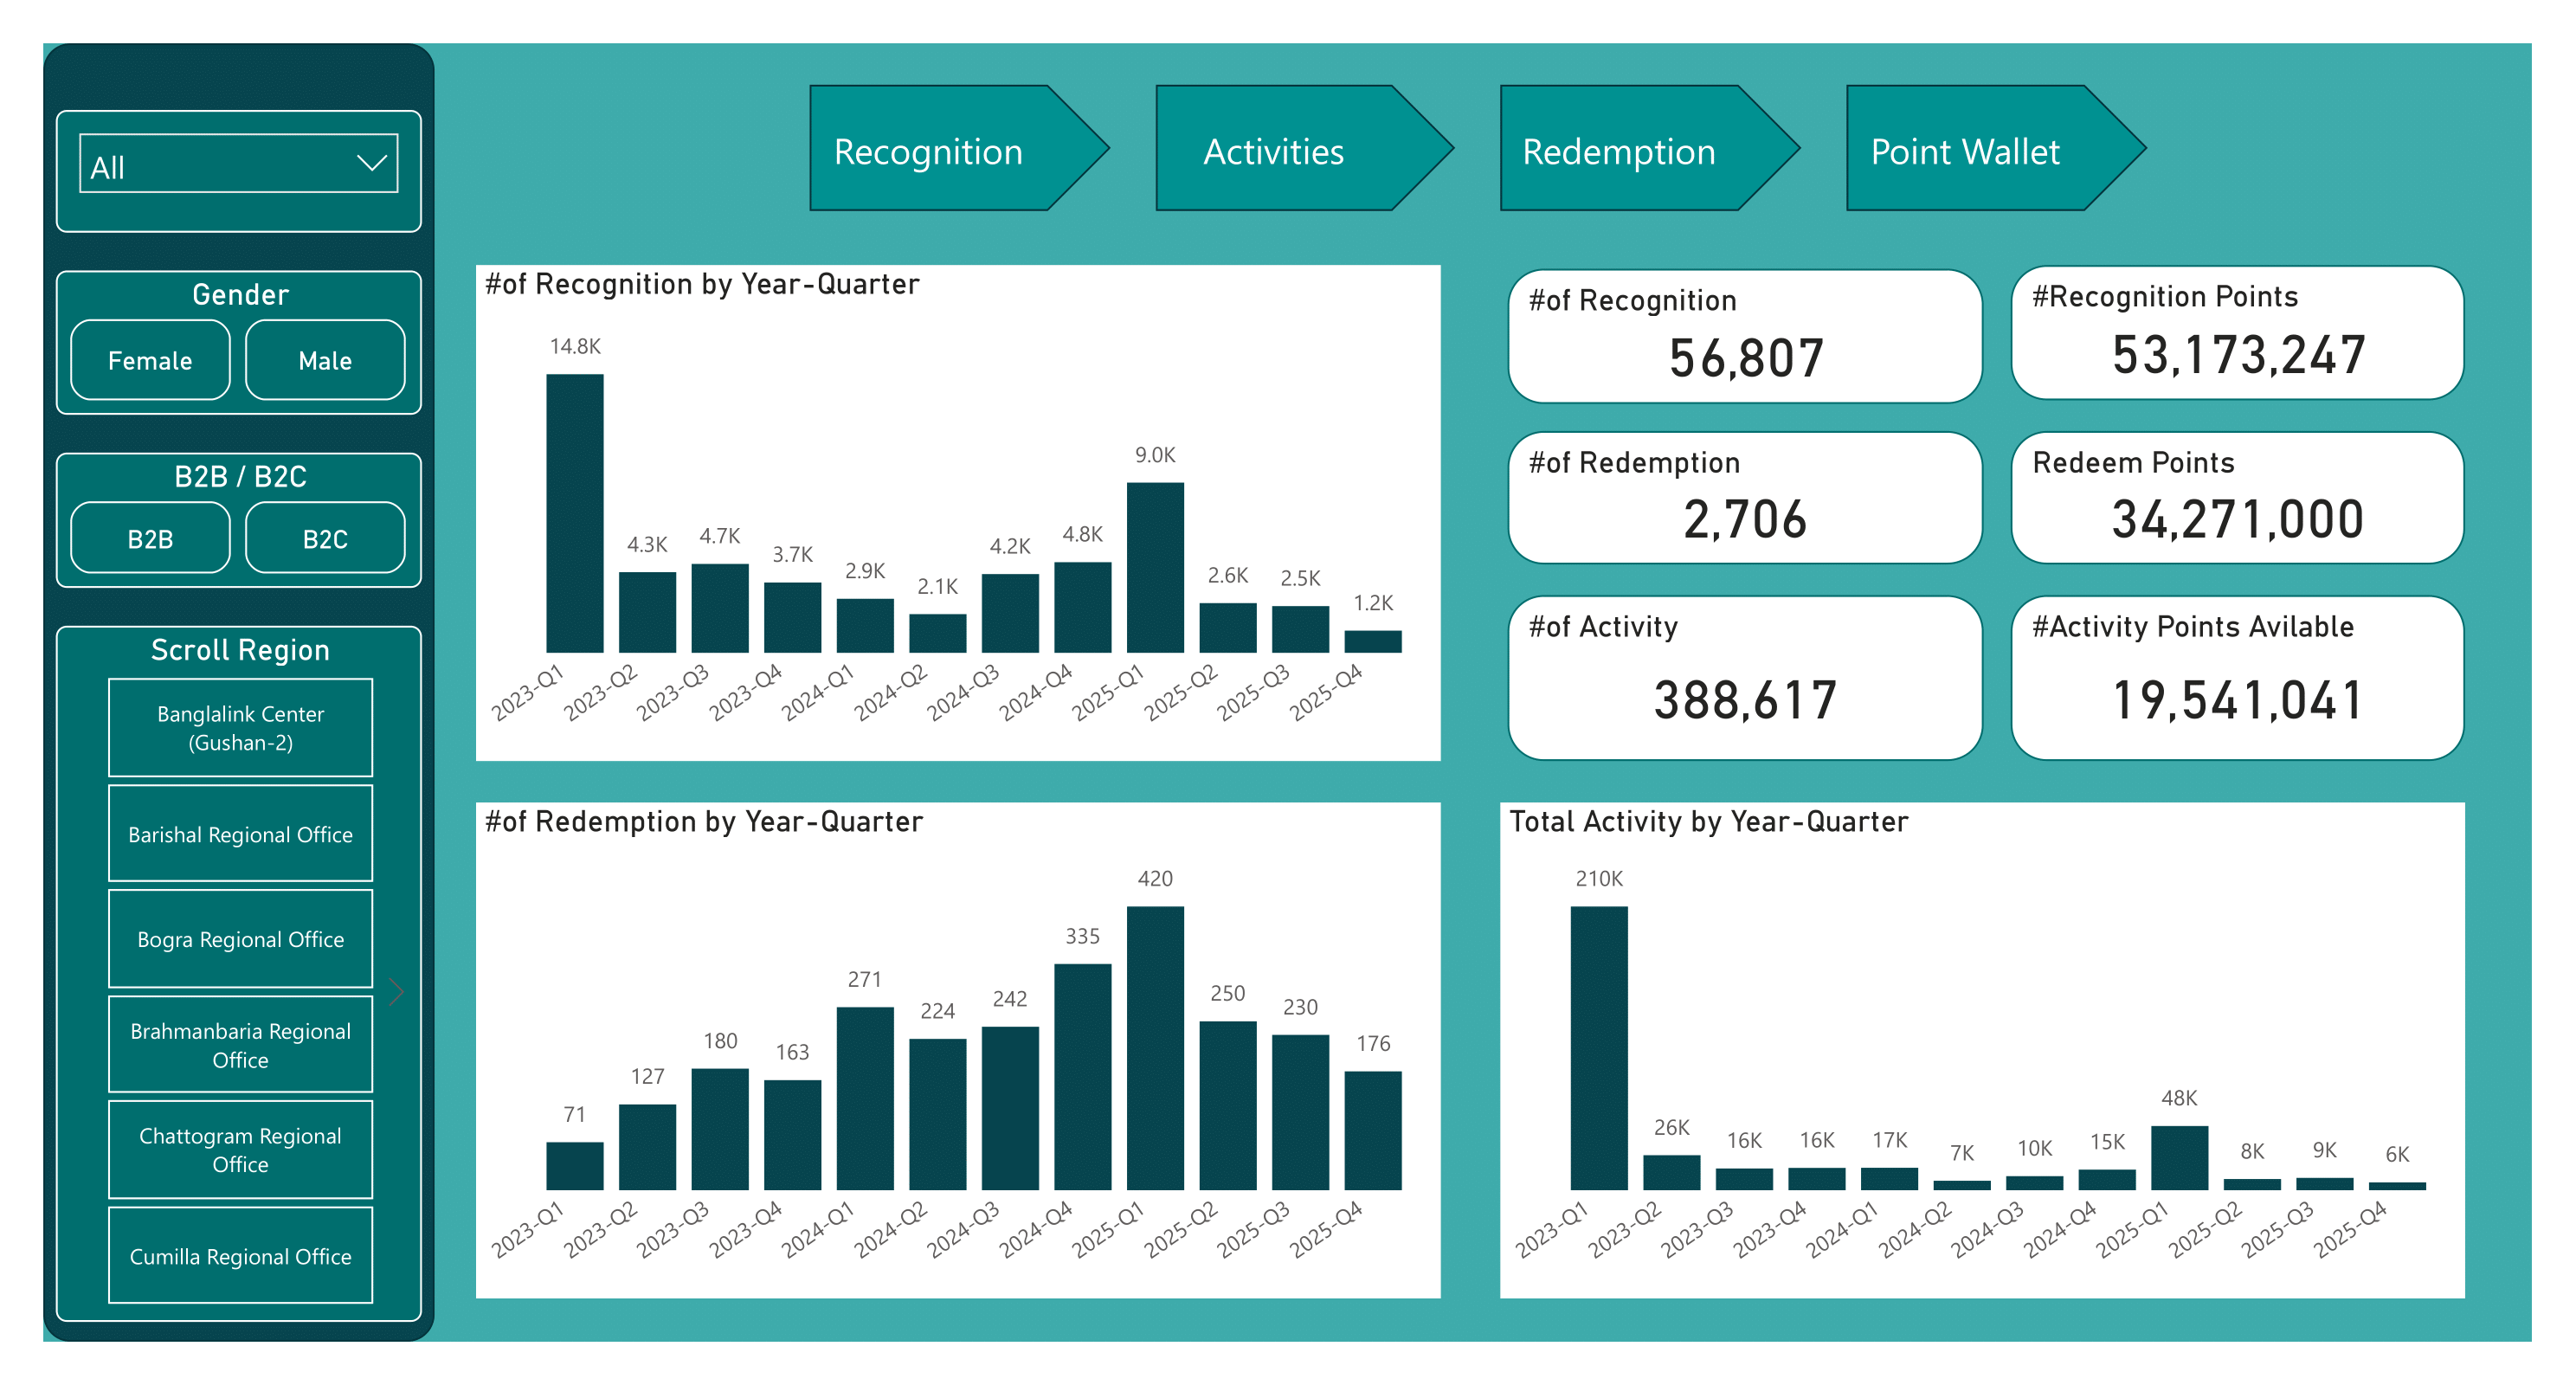

Layout of this report page (visuals, bound fields, positions):
{"tool":"powerbi","page":{"name":"Summery Visual","canvas":[1380,720],"ordinal":1},"visuals":[{"type":"shape","box":[0,0,217.4,720],"z":0},{"type":"slicer","fields":{"Values":["DimDate.Year"]},"box":[7.1,36.9,202.7,68],"z":1000},{"type":"advancedSlicerVisual","fields":{"Values":["Active Employee Database 2025.Gender"]},"box":[7.1,125.7,202.7,80.8],"z":3000},{"type":"advancedSlicerVisual","fields":{"Values":["Category B2B  B2C.B2B / B2C"]},"box":[7.1,227.2,202.7,75.1],"z":4000},{"type":"slicer","title":"Scroll Region","fields":{"Values":["Active Employee Database 2025.Regional Office"]},"box":[7.1,323.1,202.7,385.5],"z":5000},{"type":"card","title":"#of Activity","fields":{"Values":["Activities.Total Activity"]},"box":[811.7,305.7,264.1,92],"z":6000},{"type":"card","title":"#of Recognition","fields":{"Values":["Recognition Data.#of Recognition"]},"box":[812.4,125.1,263.3,74.7],"z":7000},{"type":"card","title":"#of Redemption","fields":{"Values":["CountNonNull(Redemption.Id)"]},"box":[812.4,214.8,263.3,74.7],"z":8000},{"type":"card","title":"#Activity Points Avilable","fields":{"Values":["Sum(Activities.Amount)"]},"box":[1090.7,306.3,252.1,91.5],"z":9000},{"type":"card","title":"#Recognition Points","fields":{"Values":["Sum(Recognition Data.Points)"]},"box":[1090.7,123.3,252.1,74.7],"z":10000},{"type":"card","title":"Redeem Points","fields":{"Values":["Sum(Redemption.Points)"]},"box":[1090.7,214.8,252.1,74.7],"z":11000},{"type":"shape","title":"Recognition","box":[424.9,23.2,166.7,69.6],"z":12000},{"type":"shape","title":"Recognition","box":[616.7,23.2,166.7,69.6],"z":13000},{"type":"shape","title":"Recognition","box":[1000.2,23.2,166.7,69.6],"z":14000},{"type":"shape","title":"Recognition","box":[808.4,23.2,166.7,69.6],"z":15000},{"type":"lineStackedColumnComboChart","fields":{"Category":["DimDate.Year-Quarter"],"Y":["Redemption.#of Redemption"]},"box":[240,421.4,535,274.8],"z":16000},{"type":"lineStackedColumnComboChart","fields":{"Category":["DimDate.Year-Quarter"],"Y":["Activities.Total Activity"]},"box":[808,421.4,535,274.8],"z":17000},{"type":"lineStackedColumnComboChart","fields":{"Category":["DimDate.Year-Quarter"],"Y":["Recognition Data.#of Recognition"]},"box":[240,122.8,535,274.8],"z":18000}]}

Visuals, with their boxes on the page's 1380x720 design canvas (x1, y1, x2, y2). These are canvas units, not pixel positions in the 2576x1385 screenshot, which may show the page scaled, cropped or inside an application window:
shape: Rect(0, 0, 217, 720)
slicer - DimDate.Year: Rect(7, 37, 210, 105)
advancedSlicerVisual - Active Employee Database 2025.Gender: Rect(7, 126, 210, 206)
advancedSlicerVisual - Category B2B  B2C.B2B / B2C: Rect(7, 227, 210, 302)
"Scroll Region" slicer: Rect(7, 323, 210, 709)
"#of Activity" card: Rect(812, 306, 1076, 398)
"#of Recognition" card: Rect(812, 125, 1076, 200)
"#of Redemption" card: Rect(812, 215, 1076, 290)
"#Activity Points Avilable" card: Rect(1091, 306, 1343, 398)
"#Recognition Points" card: Rect(1091, 123, 1343, 198)
"Redeem Points" card: Rect(1091, 215, 1343, 290)
"Recognition" shape: Rect(425, 23, 592, 93)
"Recognition" shape: Rect(617, 23, 783, 93)
"Recognition" shape: Rect(1000, 23, 1167, 93)
"Recognition" shape: Rect(808, 23, 975, 93)
lineStackedColumnComboChart - DimDate.Year-Quarter x Redemption.#of Redemption: Rect(240, 421, 775, 696)
lineStackedColumnComboChart - DimDate.Year-Quarter x Activities.Total Activity: Rect(808, 421, 1343, 696)
lineStackedColumnComboChart - DimDate.Year-Quarter x Recognition Data.#of Recognition: Rect(240, 123, 775, 398)
